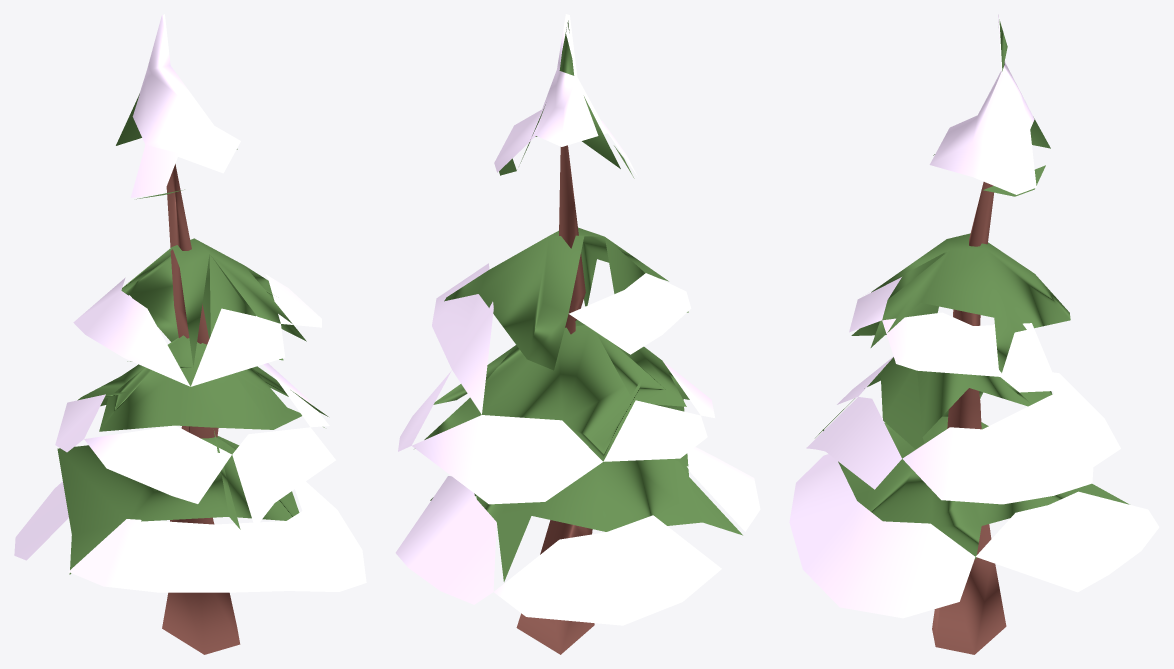
File: PineTree_Snow_2_lod.glb
3 views of the same model, side by side, from view 1: azimuth 30°, elevation 25°; view 2: azimuth 150°, elevation 25°; view 3: azimuth 270°, elevation 25° (orthographic). The views are drawn at different scales.
Parts seen in each view (by area): view 1: PineTree_Snow_2; view 2: PineTree_Snow_2; view 3: PineTree_Snow_2.
Part boxes in pixels (x1,y1,x2,y2): PineTree_Snow_2: (14, 14, 366, 654); PineTree_Snow_2: (395, 14, 760, 654); PineTree_Snow_2: (789, 14, 1159, 654).
Size of the model in its own units: 180 by 356 by 196.
